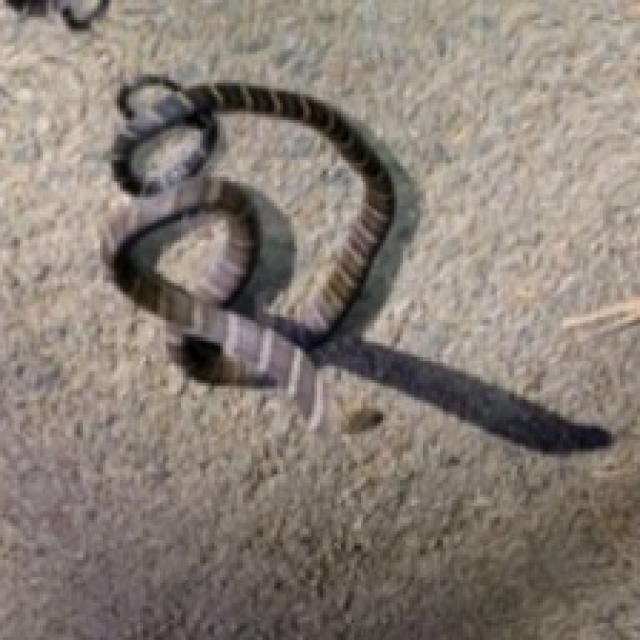king cobra: (106, 77, 394, 420), (194, 111, 363, 280), (6, 0, 106, 29)
